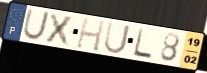8: (159, 32, 181, 63)
H: (74, 16, 107, 53)
L: (131, 26, 154, 61)
U: (102, 21, 132, 55), (21, 8, 51, 42)
X: (43, 12, 77, 48)
